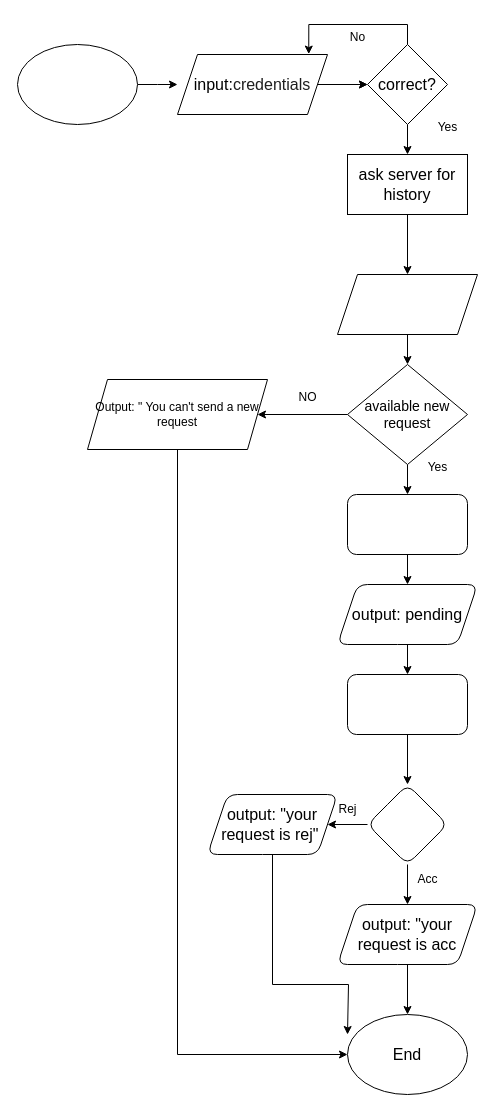
This 495x1112 diagram has some shape labels left out. The shapes that lost their labels are listed below. From the top down, each one's box as (x1, y1, x2, y2) in pixels, then its label:
(16, 44, 138, 124): start
(336, 274, 478, 334): output:History
(346, 494, 468, 554): send a new request
(346, 674, 468, 734): server: Manager mail
(366, 784, 448, 864): Acc /Rej
